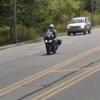Motorcycle: (36, 22, 63, 57)
